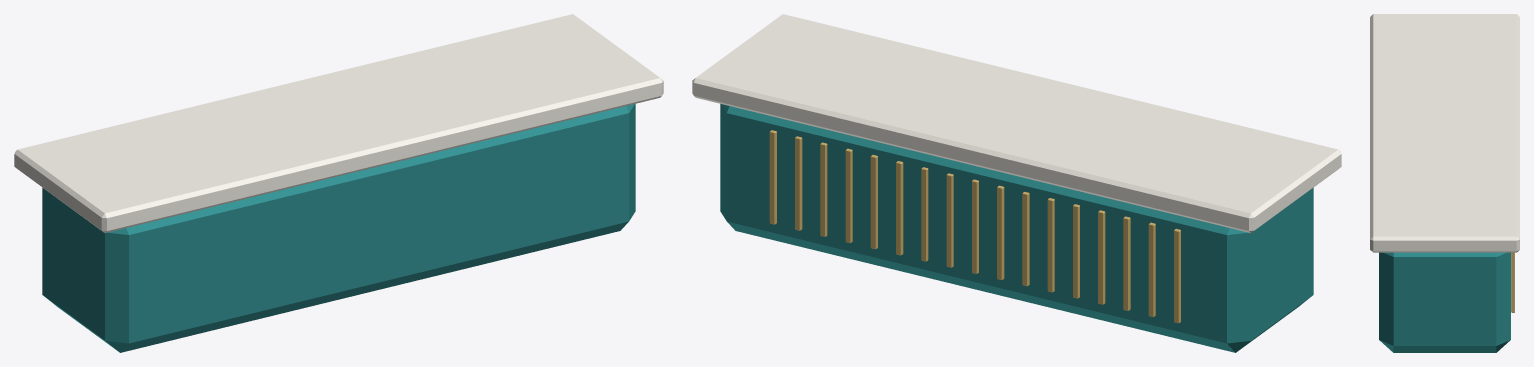
The model's file is SM_Reception.obj.
3 views of the same model, side by side, from view 1: azimuth 30°, elevation 25°; view 2: azimuth 150°, elevation 25°; view 3: azimuth 270°, elevation 25° (orthographic). The views are drawn at different scales.
Visible parts, largest first — view 1: SM_Reception; view 2: SM_Reception; view 3: SM_Reception.
Boxes of the visible parts, bbox=[...] form: SM_Reception: bbox=[14, 14, 663, 352]; SM_Reception: bbox=[692, 14, 1341, 352]; SM_Reception: bbox=[1370, 14, 1519, 352].
Size of the model in its own units: 4.45 by 1.17 by 1.25.
